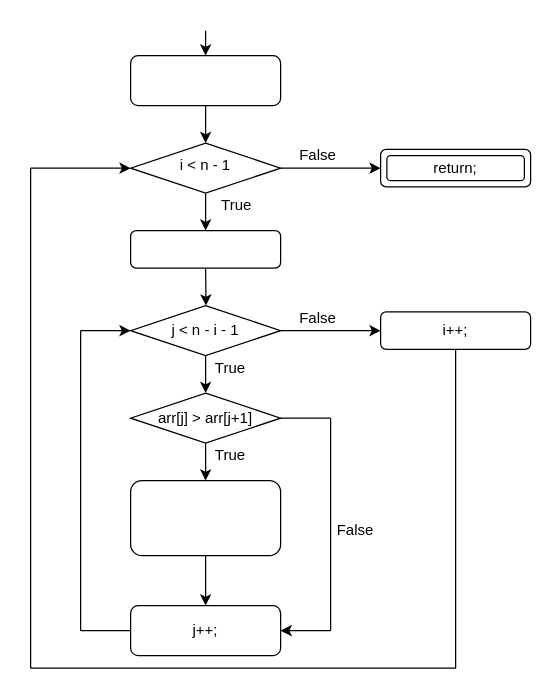
The diagram is 553 pixels wide and 691 high, and some of its shapes have lost their labels. The centre of each missing label's shape, as x and y in pixels:
int j = 0;: point (205, 248)
int n = arr.length; int i = 0;: point (205, 80)
int temp = arr[j]; arr[j] = arr[j+1]; arr[j+1] = temp;: point (205, 517)
